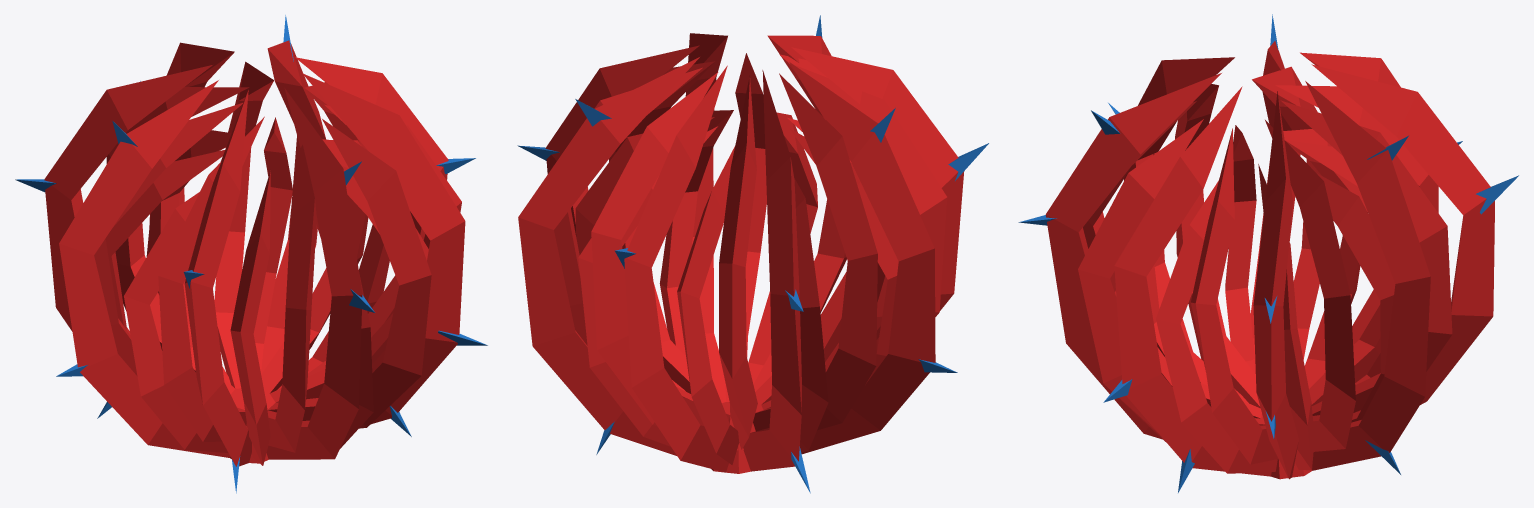
Rendered from Tumbelweed.fbx.
3 renders of one model, left to right at view 1: azimuth 30°, elevation 25°; view 2: azimuth 150°, elevation 25°; view 3: azimuth 270°, elevation 25°, orthographic. The views are drawn at different scales.
Parts seen in each view (by area): view 1: Tumbelweed; view 2: Tumbelweed; view 3: Tumbelweed.
Boxes of the visible parts, left/top/right/bottom form: Tumbelweed: left=15, top=15, right=487, bottom=493; Tumbelweed: left=517, top=15, right=988, bottom=493; Tumbelweed: left=1018, top=14, right=1518, bottom=492.
Size of the model in its own units: 1.66 by 1.47 by 1.67.
